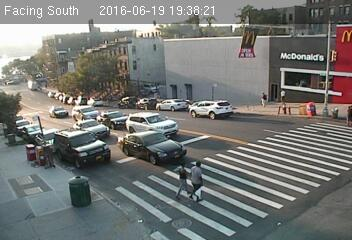neg: (41, 149, 67, 183), (279, 125, 303, 156), (9, 83, 29, 110), (16, 142, 34, 166), (171, 58, 187, 80), (336, 38, 351, 61), (299, 39, 315, 60), (234, 138, 250, 159), (224, 105, 239, 124), (86, 124, 100, 143), (78, 178, 90, 195), (154, 117, 166, 133), (325, 97, 337, 112), (57, 90, 68, 105), (109, 179, 120, 193), (114, 132, 124, 145), (245, 48, 252, 58)
pos: (177, 153, 213, 201), (167, 161, 198, 202), (255, 88, 271, 108), (274, 83, 289, 104)
